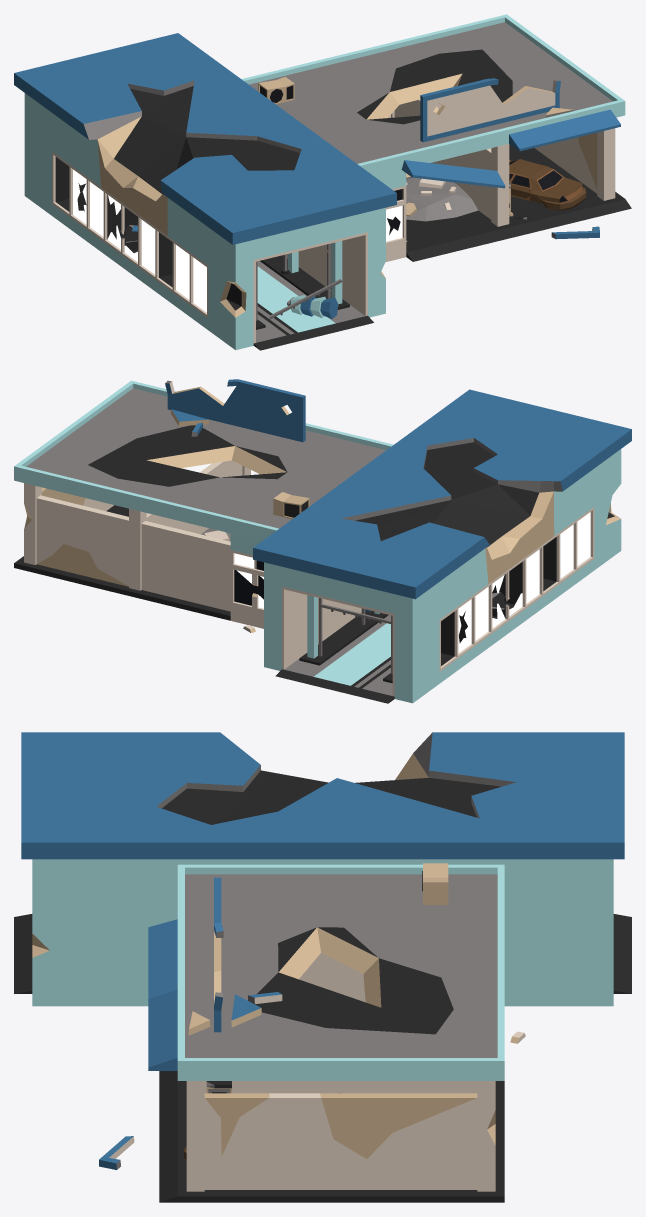
The model's file is apocalypse-building-carwash-apocalypse.glb.
3 renders of one model, top to bottom at view 1: azimuth 30°, elevation 25°; view 2: azimuth 150°, elevation 25°; view 3: azimuth 270°, elevation 25°, orthographic. The views are drawn at different scales.
Parts seen in each view (by area): view 1: building-carwash-apocalypse; view 2: building-carwash-apocalypse; view 3: building-carwash-apocalypse.
Boxes of the visible parts, x1,y1,x2,y2 form: building-carwash-apocalypse: [14, 14, 631, 350]; building-carwash-apocalypse: [14, 379, 631, 703]; building-carwash-apocalypse: [14, 732, 631, 1202].
Bounding box in the file's own units: 19.7 × 6 × 17.
